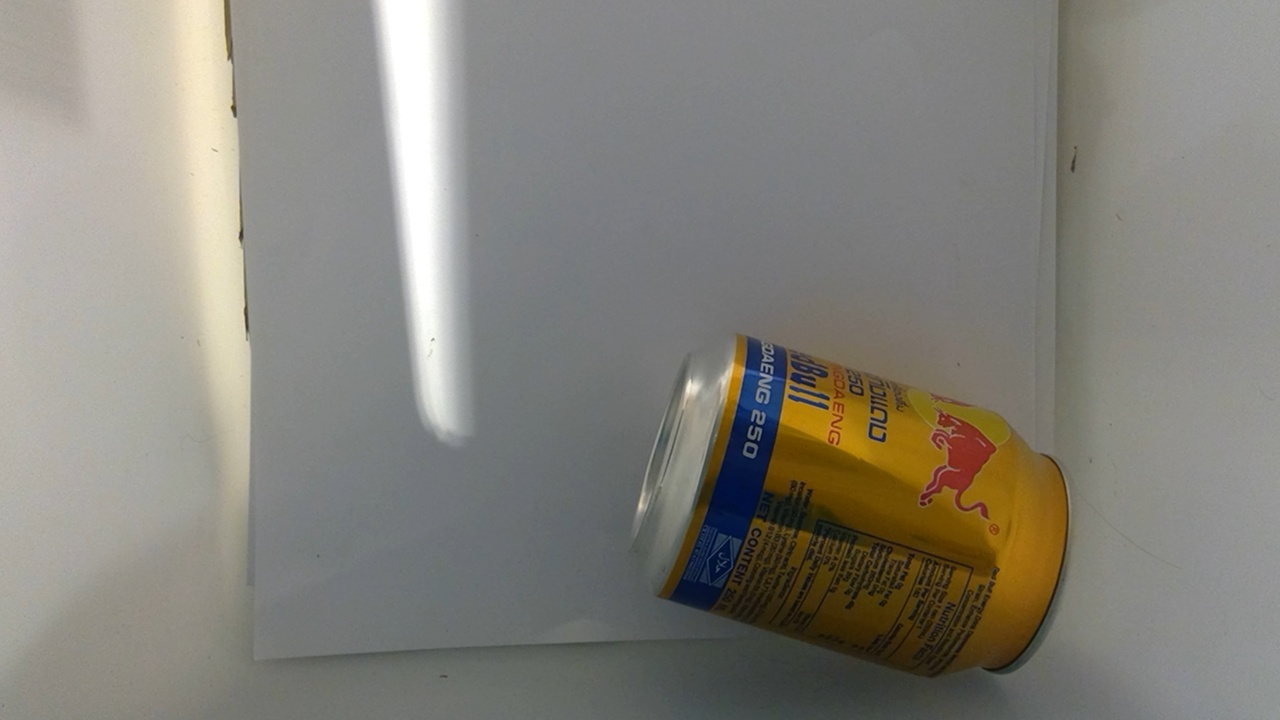bottle: (625, 325, 1070, 689)
